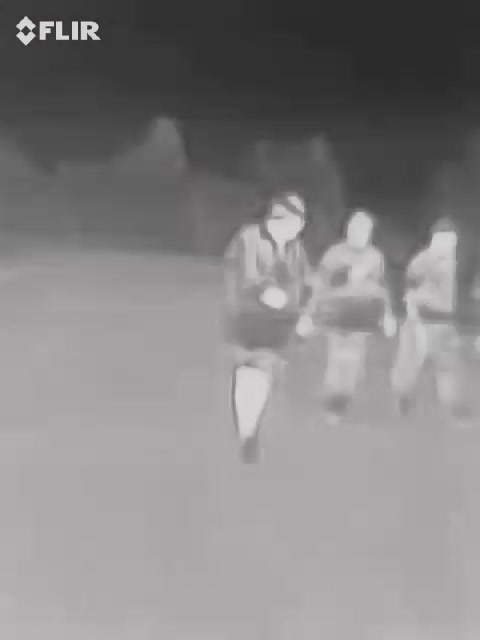head: (266, 196, 308, 248)
